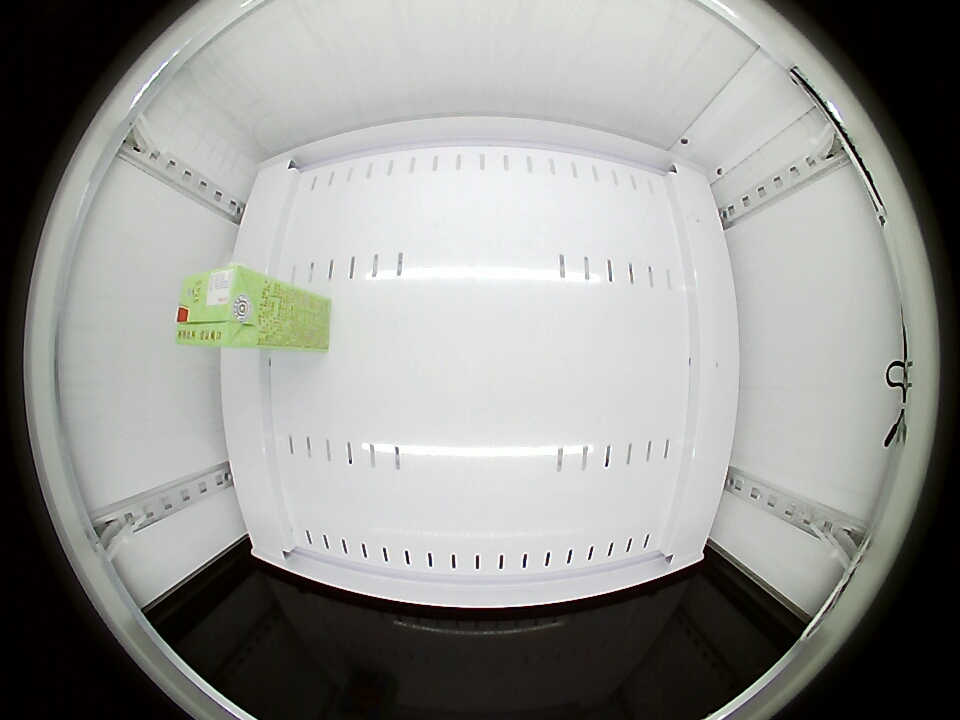wanglaoji: (176, 264, 268, 348)
